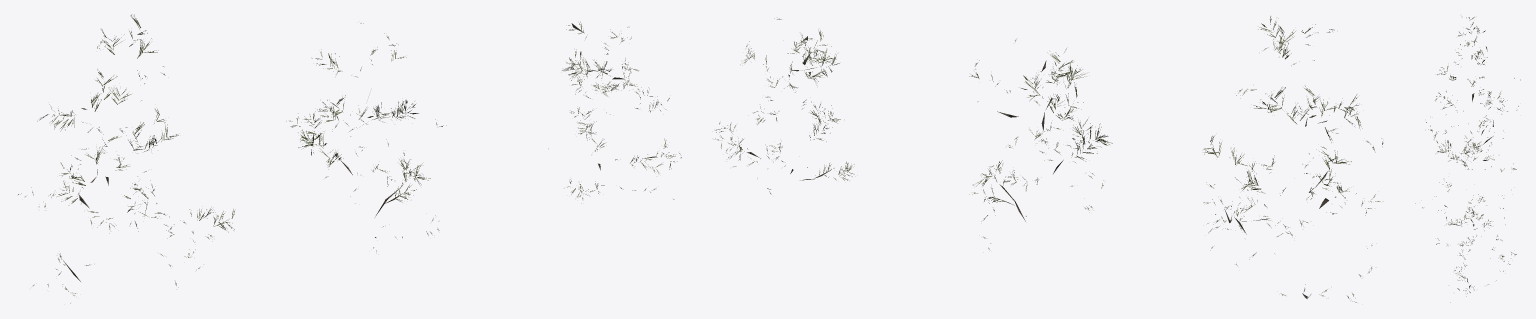
Rendered from ph_pine_sapling_small_lod1.glb.
The picture shows the model from 3 angles, left to right: view 1: azimuth 30°, elevation 25°; view 2: azimuth 150°, elevation 25°; view 3: azimuth 270°, elevation 25°; orthographic projection. The views are drawn at different scales.
Parts seen in each view (by area): view 1: pine_sapling_small_a, pine_sapling_small_b, pine_sapling_small_c; view 2: pine_sapling_small_a, pine_sapling_small_b, pine_sapling_small_c; view 3: pine_sapling_small_a, pine_sapling_small_b, pine_sapling_small_c.
Part boxes in pixels (left/top/right/bottom): pine_sapling_small_a: left=18, top=14, right=234, bottom=303; pine_sapling_small_b: left=286, top=23, right=446, bottom=251; pine_sapling_small_c: left=548, top=21, right=681, bottom=203; pine_sapling_small_a: left=1203, top=16, right=1383, bottom=302; pine_sapling_small_b: left=969, top=39, right=1112, bottom=249; pine_sapling_small_c: left=715, top=18, right=854, bottom=194; pine_sapling_small_a: left=1426, top=17, right=1520, bottom=157; pine_sapling_small_b: left=1415, top=120, right=1516, bottom=224; pine_sapling_small_c: left=1436, top=197, right=1516, bottom=302.
Bounding box in the file's own units: 2.59 × 1.14 × 0.7383.
Materials: 1 (1 with a texture image).
